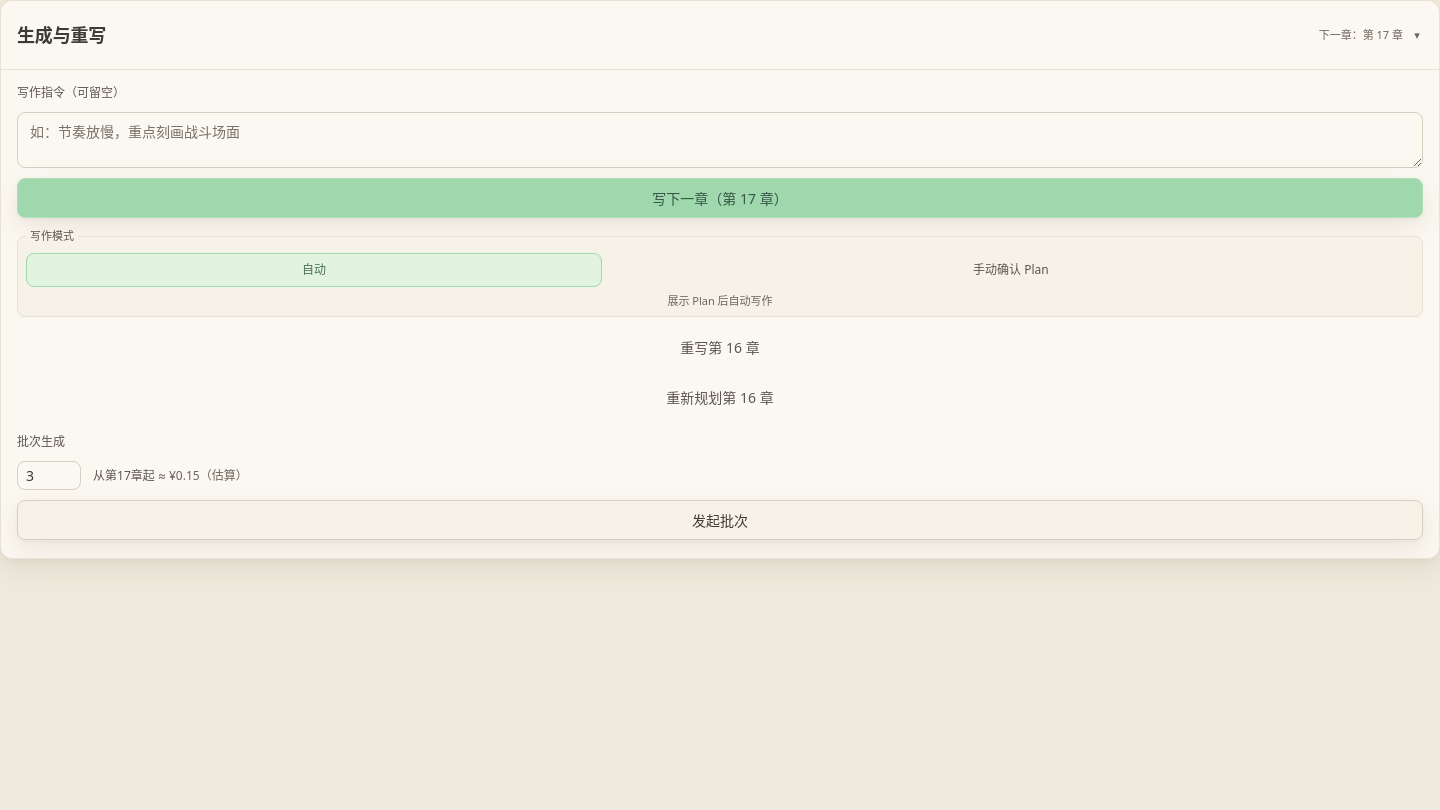
shows the writing controls by default and starts the next chapter from a direct click
Click the button "写下一章（第 17 章）" at (720, 198), box [17, 178, 1423, 218]
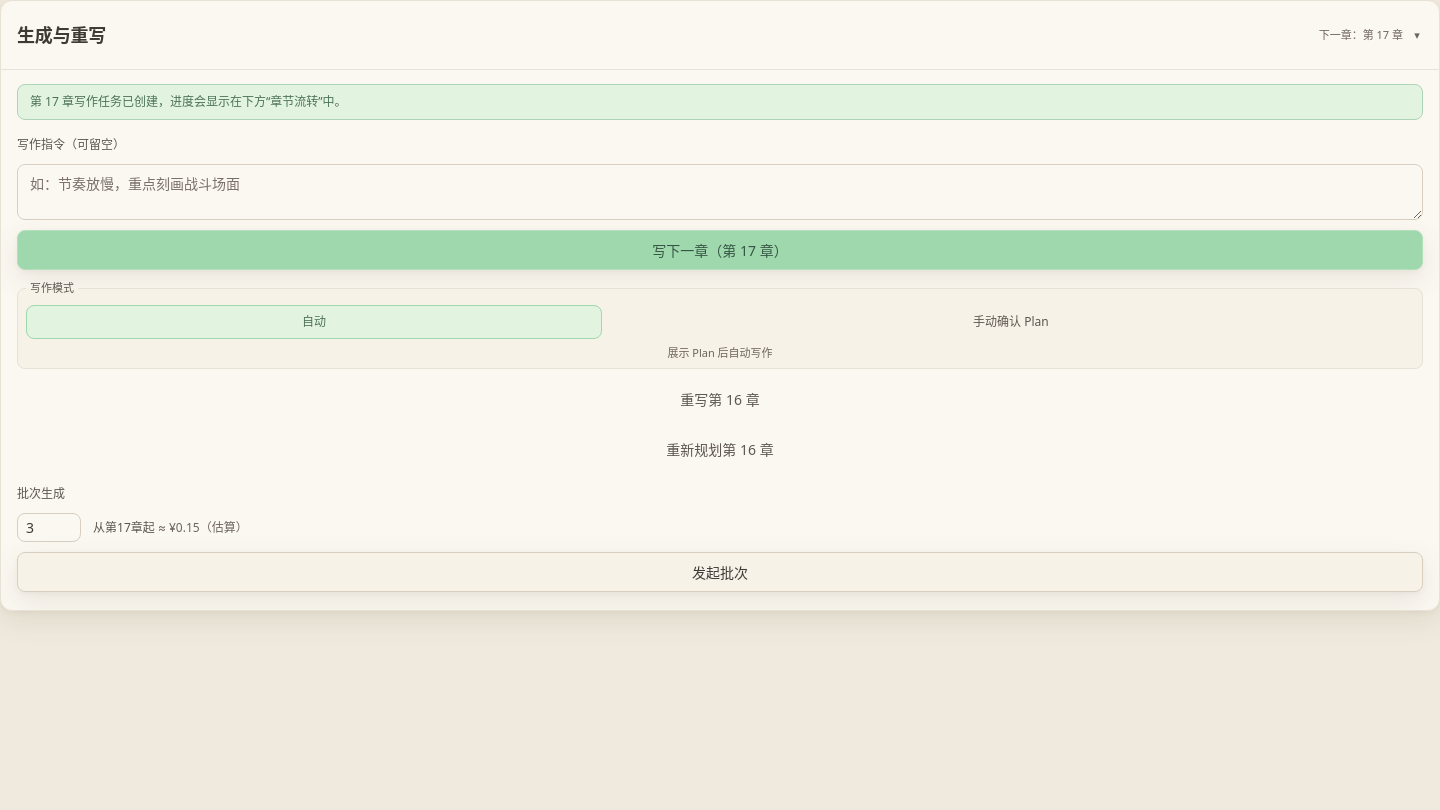
Now the message shows "第 17 章写作任务已创建", box [30, 93, 347, 110]
